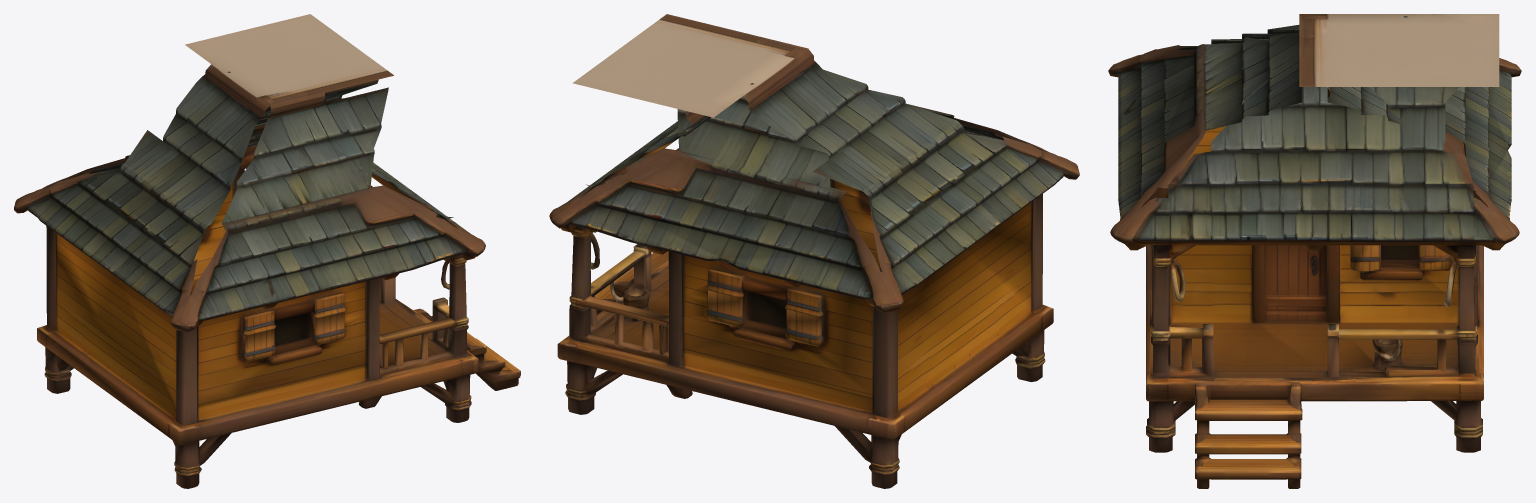
The model's file is hut-stilt-shingle-v2-lod.glb.
3 renders of one model, left to right at view 1: azimuth 30°, elevation 25°; view 2: azimuth 150°, elevation 25°; view 3: azimuth 270°, elevation 25°, orthographic. The views are drawn at different scales.
Parts seen in each view (by area): view 1: tripo_node_eba01e66-cabf-4915-ad42-643a8e284c9d; view 2: tripo_node_eba01e66-cabf-4915-ad42-643a8e284c9d; view 3: tripo_node_eba01e66-cabf-4915-ad42-643a8e284c9d.
Boxes of the visible parts, bbox=[...] form: tripo_node_eba01e66-cabf-4915-ad42-643a8e284c9d: bbox=[14, 14, 520, 488]; tripo_node_eba01e66-cabf-4915-ad42-643a8e284c9d: bbox=[549, 14, 1079, 488]; tripo_node_eba01e66-cabf-4915-ad42-643a8e284c9d: bbox=[1108, 14, 1521, 488].
Size of the model in its own units: 0.9961 by 0.7593 by 0.7926.
1 material, 1 textured.
